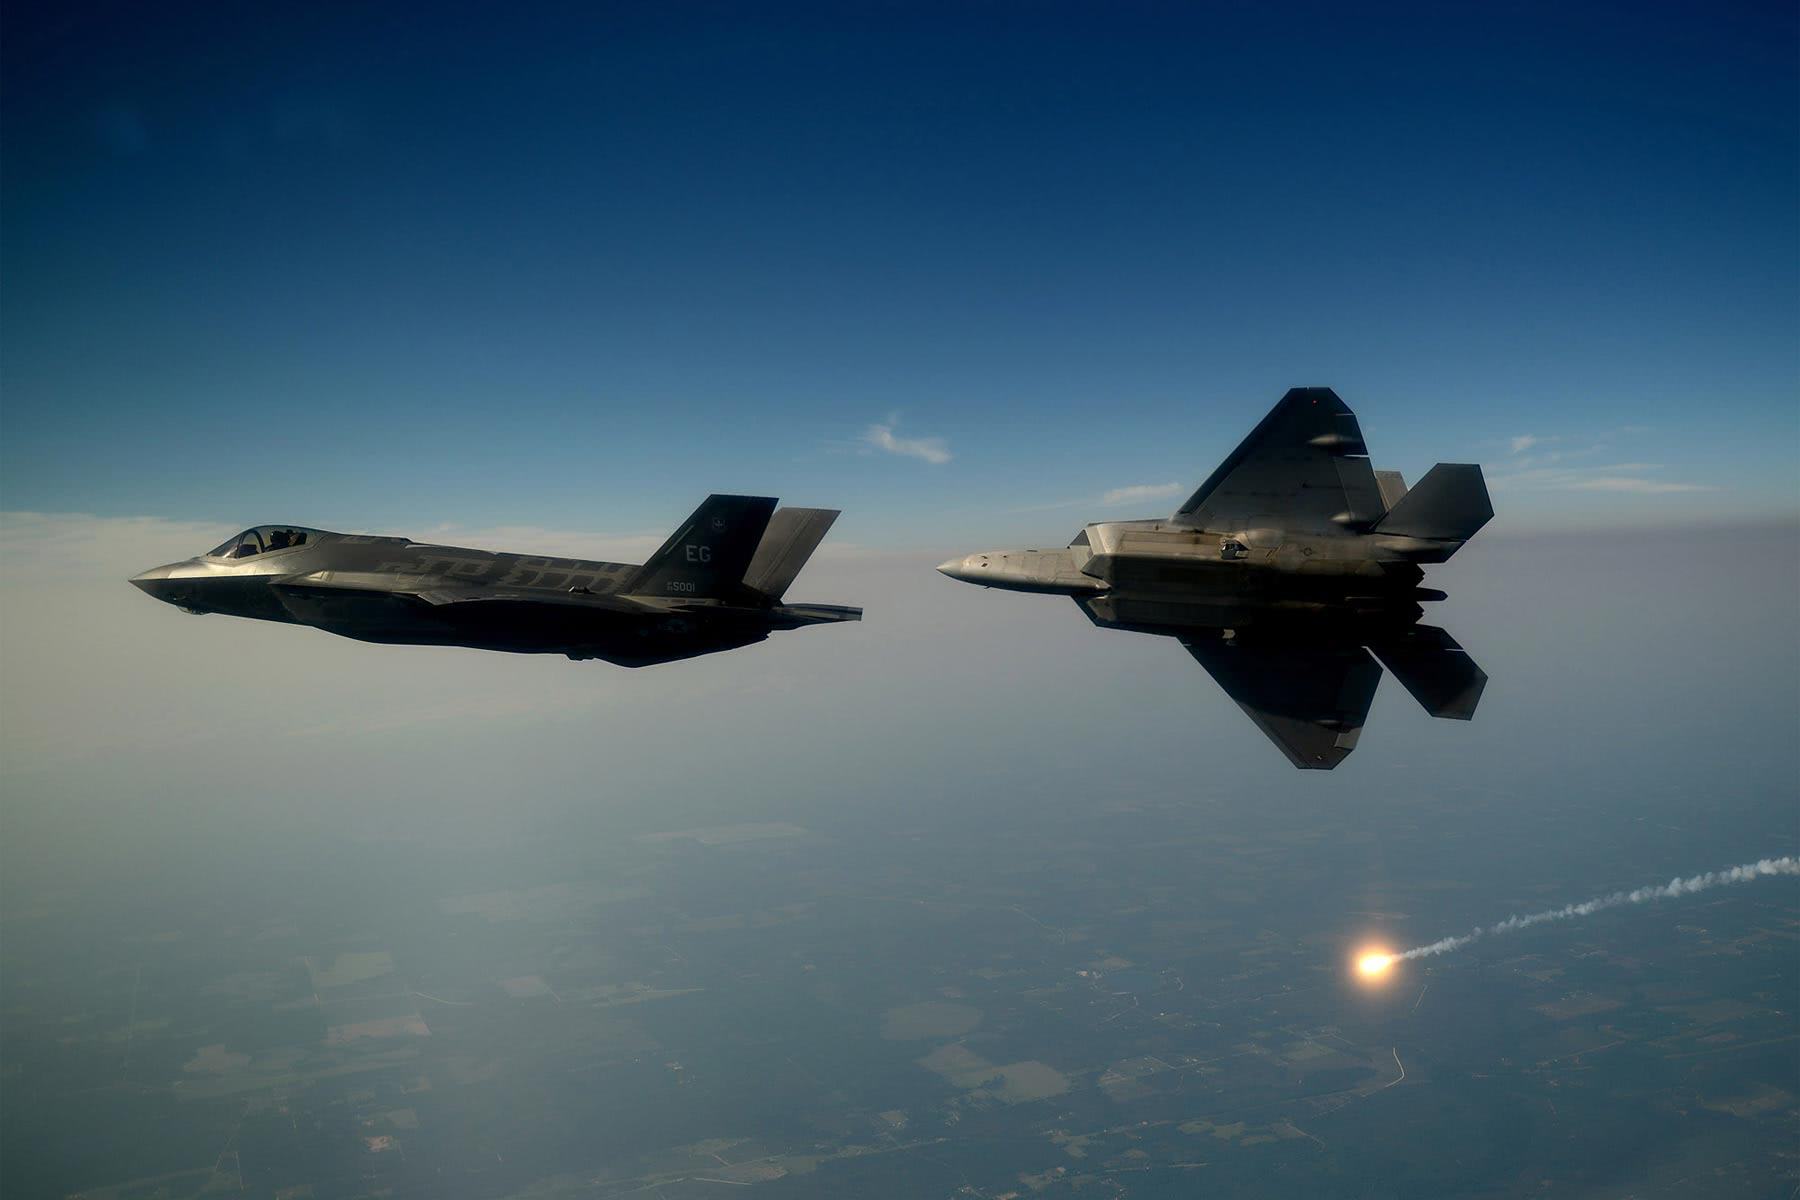airplane: (925, 382, 1495, 775), (108, 490, 862, 670)
